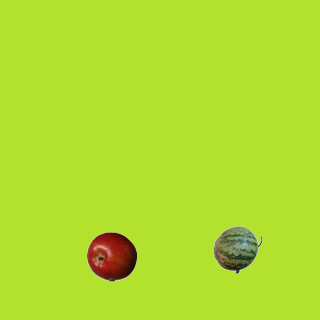Apple Braeburn: (86, 231, 136, 281)
Watermelon: (212, 224, 262, 274)
